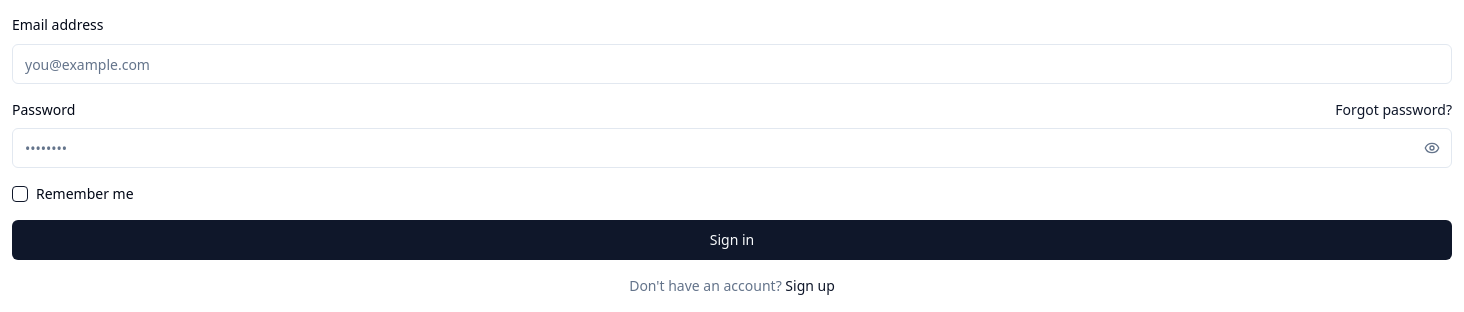
Test: LoginForm › Form Submission › should show loading state during submission
The width and height of the screenshot is (1464, 312).
Type "test@example.com" into the field labelled "Email address". click: x=732, y=64
box: x1=12 y1=44 x2=1452 y2=84
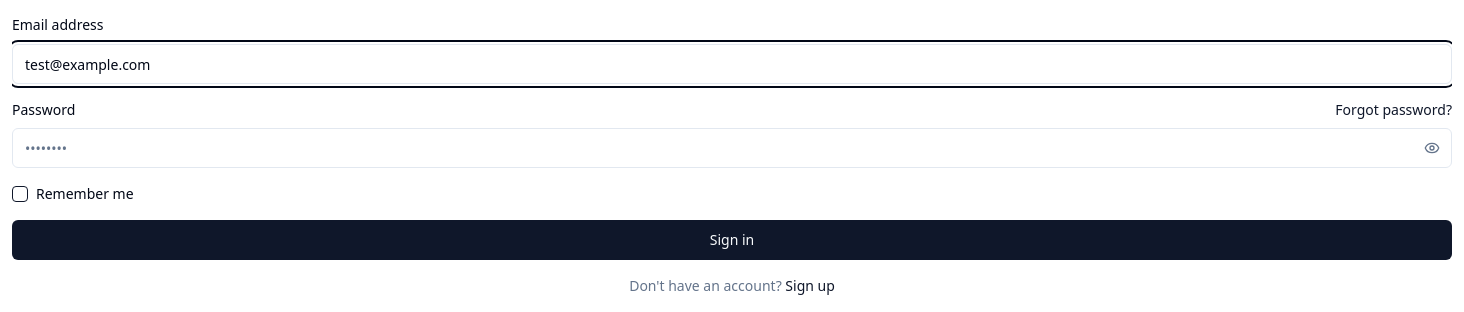
Type "password123" into the password field labelled "Password". click: x=732, y=148
box: x1=12 y1=128 x2=1452 y2=168
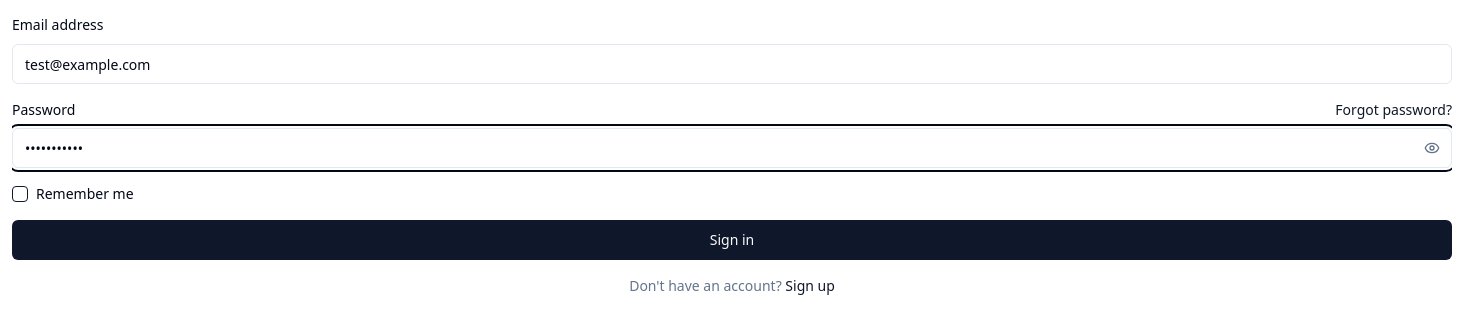
Click the button "Sign in". click: x=732, y=240
box: x1=12 y1=220 x2=1452 y2=260
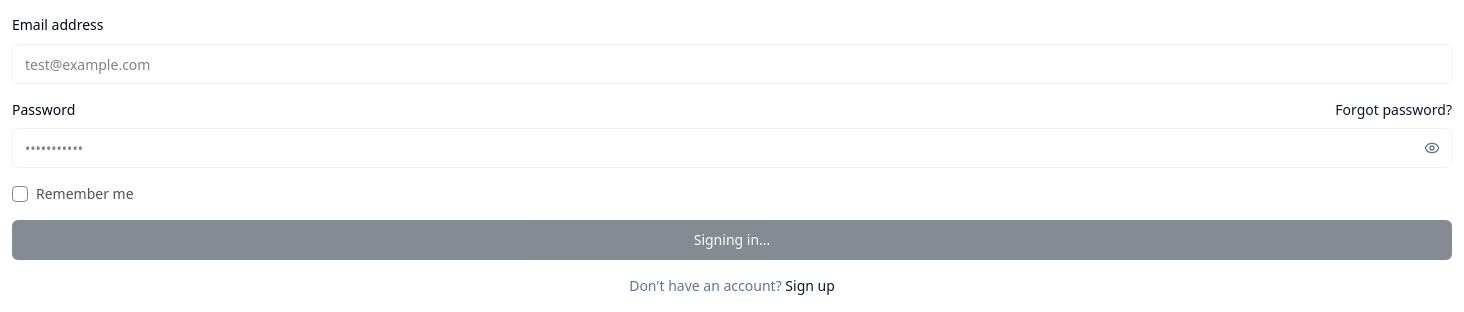
Now the button named "sign in" is disabled, box x1=12 y1=220 x2=1452 y2=260
